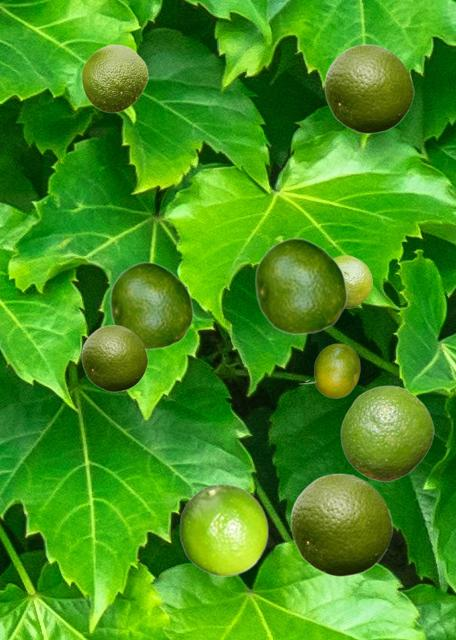calamansi: (290, 472, 392, 576), (254, 237, 347, 334), (340, 385, 433, 481), (179, 483, 268, 575), (324, 43, 413, 133), (109, 261, 193, 349), (81, 44, 147, 112), (81, 324, 147, 391), (298, 343, 359, 397), (334, 255, 371, 307)
